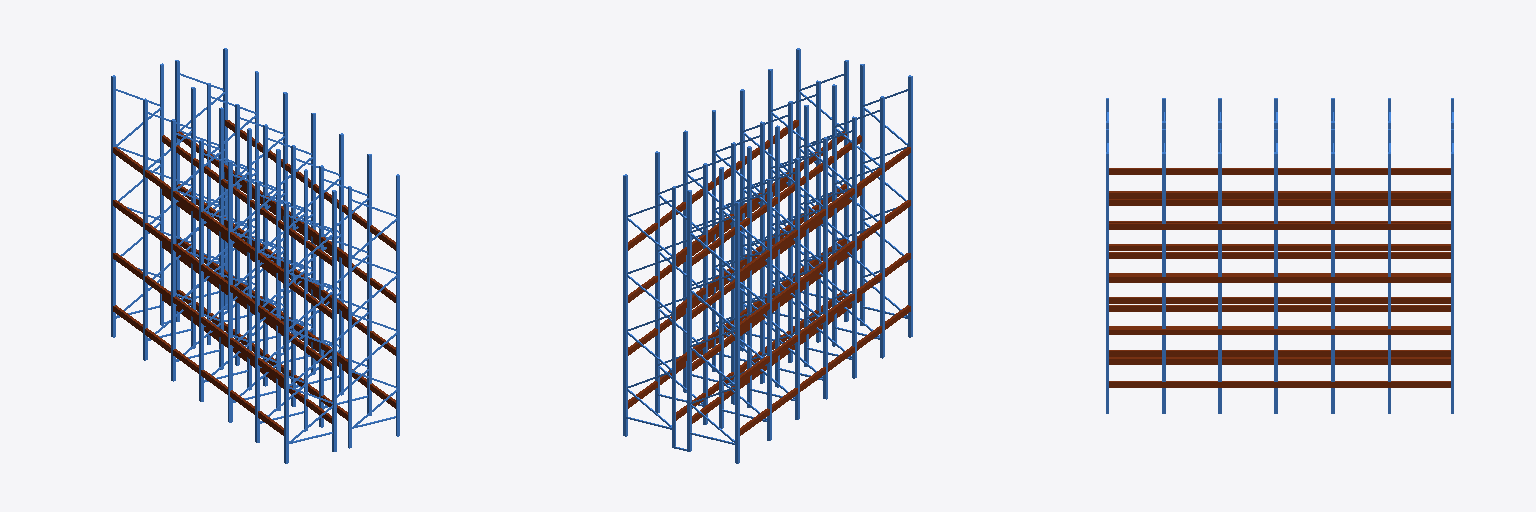
Rendered from Shelf.obj.
3 views of the same model, side by side, from view 1: azimuth 30°, elevation 25°; view 2: azimuth 150°, elevation 25°; view 3: azimuth 270°, elevation 25° (orthographic).
Parts seen in each view (by area): view 1: Shelf; view 2: Shelf; view 3: Shelf.
Boxes of the visible parts, box(x1,y1,x2,y2) form: Shelf: box(111, 48, 399, 463); Shelf: box(623, 48, 912, 463); Shelf: box(1106, 98, 1453, 413).
Bounding box in the file's own units: 413 × 894 × 1084.